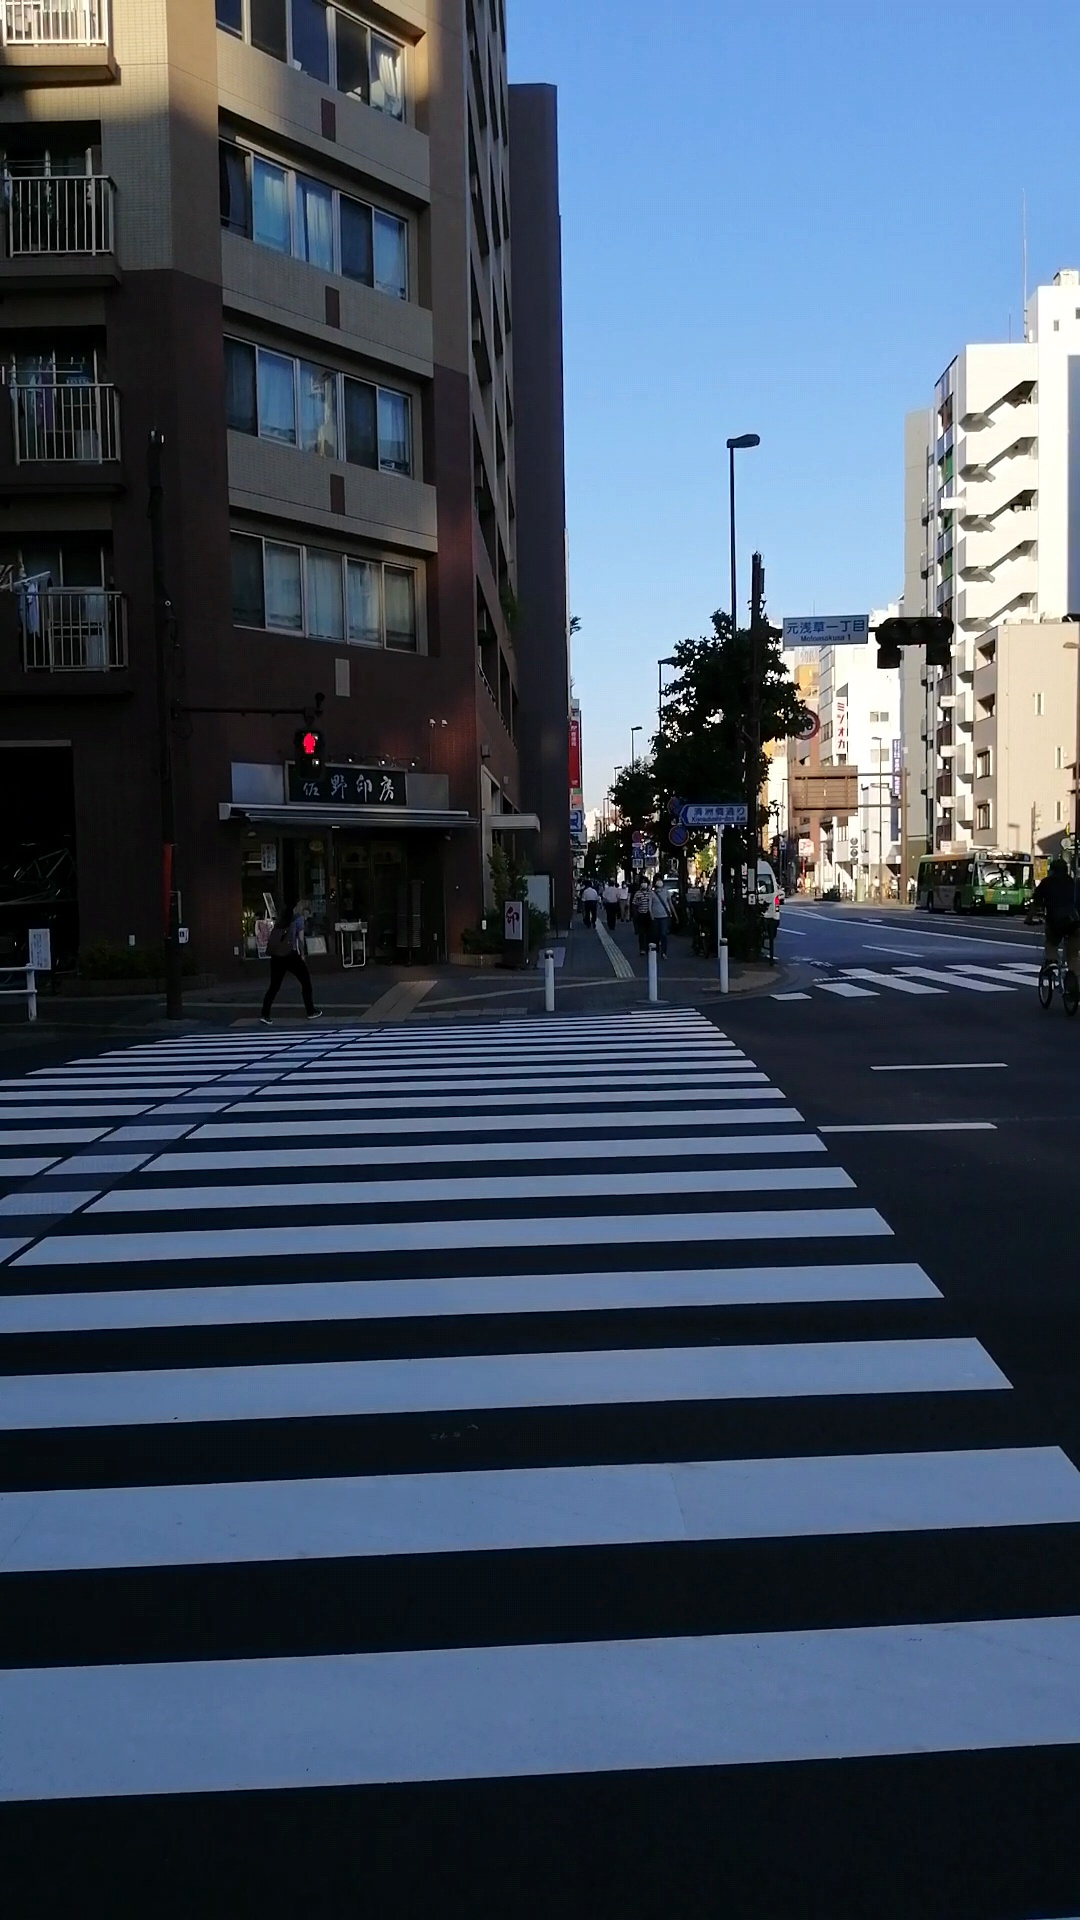red: (287, 727, 327, 798)
